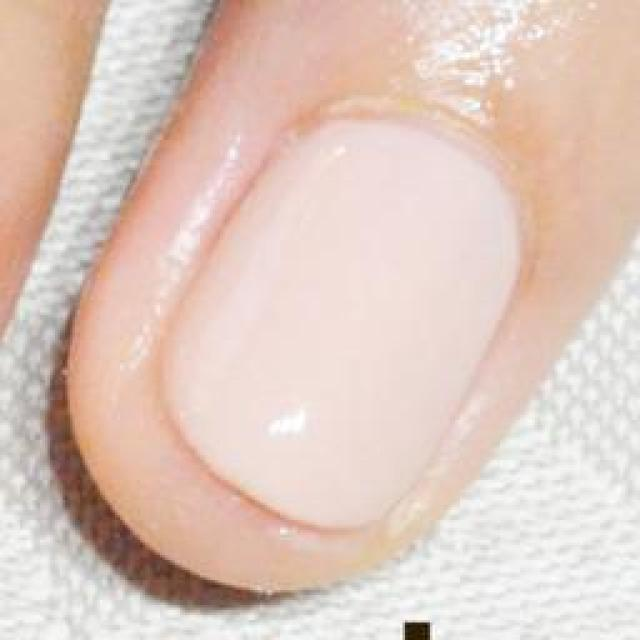Nail: (160, 112, 523, 530)
